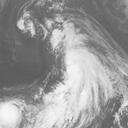cyclone: (47, 20, 90, 67)
